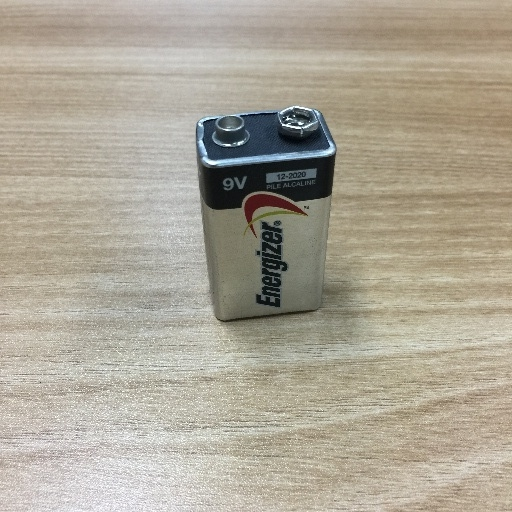Battery_3: (189, 97, 351, 334)
